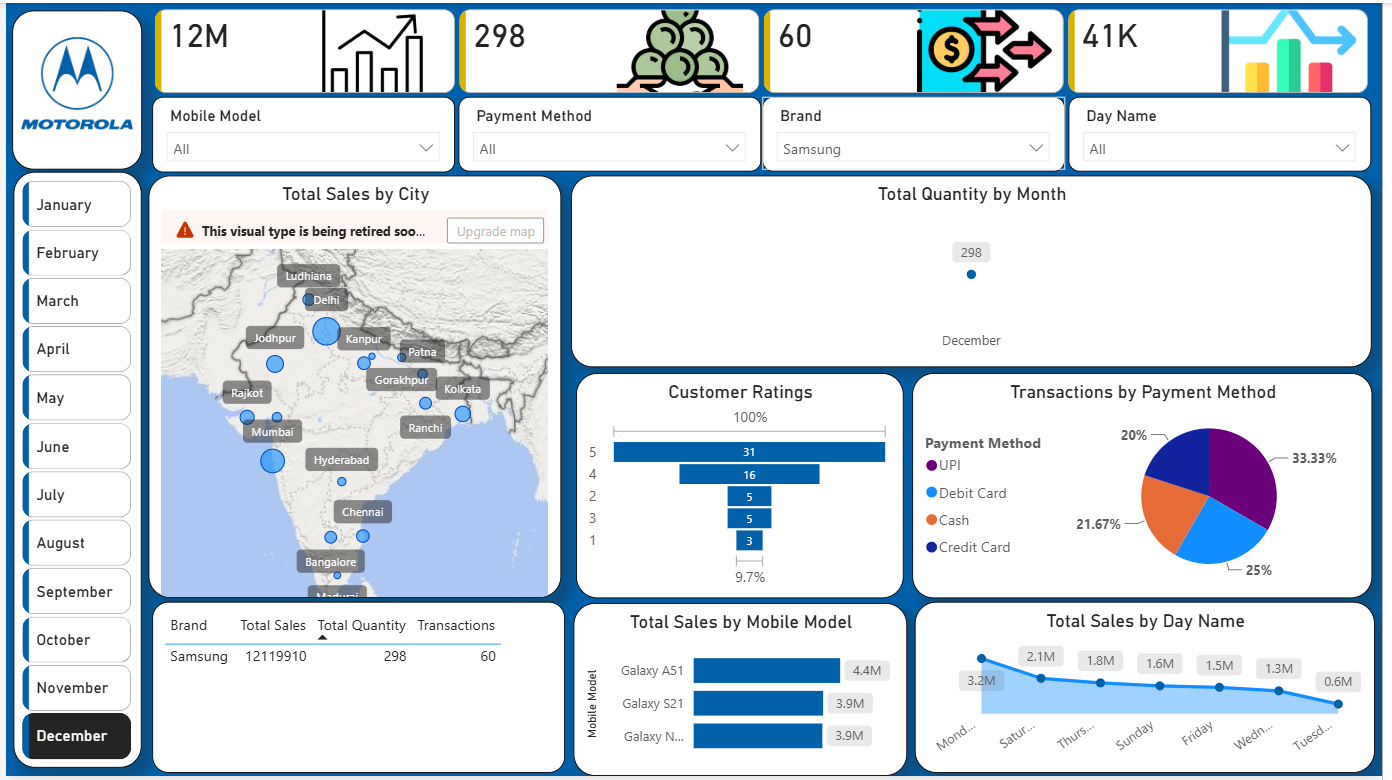

Layout of this report page (visuals, bound fields, positions):
{"tool":"powerbi","page":{"name":"Page 1","canvas":[1280,720],"ordinal":0},"visuals":[{"type":"shape","box":[5.5,6.9,120.8,148.2],"z":0},{"type":"image","box":[9.6,16.5,113.9,116.6],"z":1000},{"type":"shape","box":[6.9,156.4,119.4,554.4],"z":2000},{"type":"advancedSlicerVisual","fields":{"Values":["Sales_Data.Date.Variation.Date Hierarchy.Month"]},"box":[11,160.5,111.1,548.9],"z":3000},{"type":"cardVisual","fields":{"Data":["Sales_Data.Total Sales","Sales_Data.Total Quantity","Sales_Data.Transactions","Sales_Data.Average"]},"box":[134,5.6,1140.1,83.7],"z":4000},{"type":"map","fields":{"Category":["Sales_Data.City"],"Size":["Sales_Data.Total Sales"]},"box":[132.9,160.8,384.1,393.1],"z":5000},{"type":"lineChart","fields":{"Category":["Sales_Data.Date.Variation.Date Hierarchy.Month","Sales_Data.Date.Variation.Date Hierarchy.Day"],"Y":["Sales_Data.Total Quantity"]},"box":[525.9,160.8,744.8,178.7],"z":6000},{"type":"clusteredBarChart","fields":{"Category":["Sales_Data.Mobile Model"],"Y":["Sales_Data.Total Sales"]},"box":[528.3,558.5,310.1,160.5],"z":7000},{"type":"pieChart","fields":{"Category":["Sales_Data.Payment Method"],"Y":["Sales_Data.Transactions"]},"box":[842.5,344.4,428.1,209.9],"z":8000},{"type":"funnel","title":"Customer Ratings","fields":{"Category":["Sales_Data.Customer Ratings"],"Y":["CountNonNull(Sales_Data.Customer Ratings)"]},"box":[529.7,344.4,304.6,209.9],"z":9000},{"type":"areaChart","fields":{"Category":["Sales_Data.Day Name"],"Y":["Sales_Data.Total Sales"]},"box":[845.3,557.1,428.1,159.2],"z":10000},{"type":"tableEx","fields":{"Values":["Sales_Data.Brand","Sales_Data.Total Sales","Sales_Data.Total Quantity","Sales_Data.Transactions"]},"box":[135.8,557.1,384.2,159.2],"z":11000},{"type":"slicer","fields":{"Values":["Sales_Data.Mobile Model"]},"box":[136.2,87.1,281.4,70.3],"z":12000},{"type":"slicer","fields":{"Values":["Sales_Data.Payment Method"]},"box":[421,87.1,281.4,69.2],"z":13000},{"type":"slicer","fields":{"Values":["Sales_Data.Brand"]},"box":[703.5,87.1,281.4,69.2],"z":14000},{"type":"slicer","fields":{"Values":["Sales_Data.Day Name"]},"box":[988.2,87.1,281.4,69.2],"z":15000}]}

Visuals, with their boxes in screenshot pixels (x1, y1, x2, y2), scaled from the page's 1280x720 canvas onto the 1392x780 screenshot:
shape: detection(6, 7, 137, 168)
image: detection(10, 18, 134, 144)
shape: detection(8, 169, 137, 770)
advancedSlicerVisual - Sales_Data.Date.Variation.Date Hierarchy.Month: detection(12, 174, 133, 769)
cardVisual - Sales_Data.Total Sales x Sales_Data.Total Quantity: detection(146, 6, 1386, 97)
map - Sales_Data.City x Sales_Data.Total Sales: detection(145, 174, 562, 600)
lineChart - Sales_Data.Date.Variation.Date Hierarchy.Month x Sales_Data.Date.Variation.Date Hierarchy.Day: detection(572, 174, 1382, 368)
clusteredBarChart - Sales_Data.Mobile Model x Sales_Data.Total Sales: detection(575, 605, 912, 779)
pieChart - Sales_Data.Payment Method x Sales_Data.Transactions: detection(916, 373, 1382, 600)
"Customer Ratings" funnel: detection(576, 373, 907, 600)
areaChart - Sales_Data.Day Name x Sales_Data.Total Sales: detection(919, 604, 1385, 776)
tableEx - Sales_Data.Brand x Sales_Data.Total Sales: detection(148, 604, 566, 776)
slicer - Sales_Data.Mobile Model: detection(148, 94, 454, 171)
slicer - Sales_Data.Payment Method: detection(458, 94, 764, 169)
slicer - Sales_Data.Brand: detection(765, 94, 1071, 169)
slicer - Sales_Data.Day Name: detection(1075, 94, 1381, 169)
